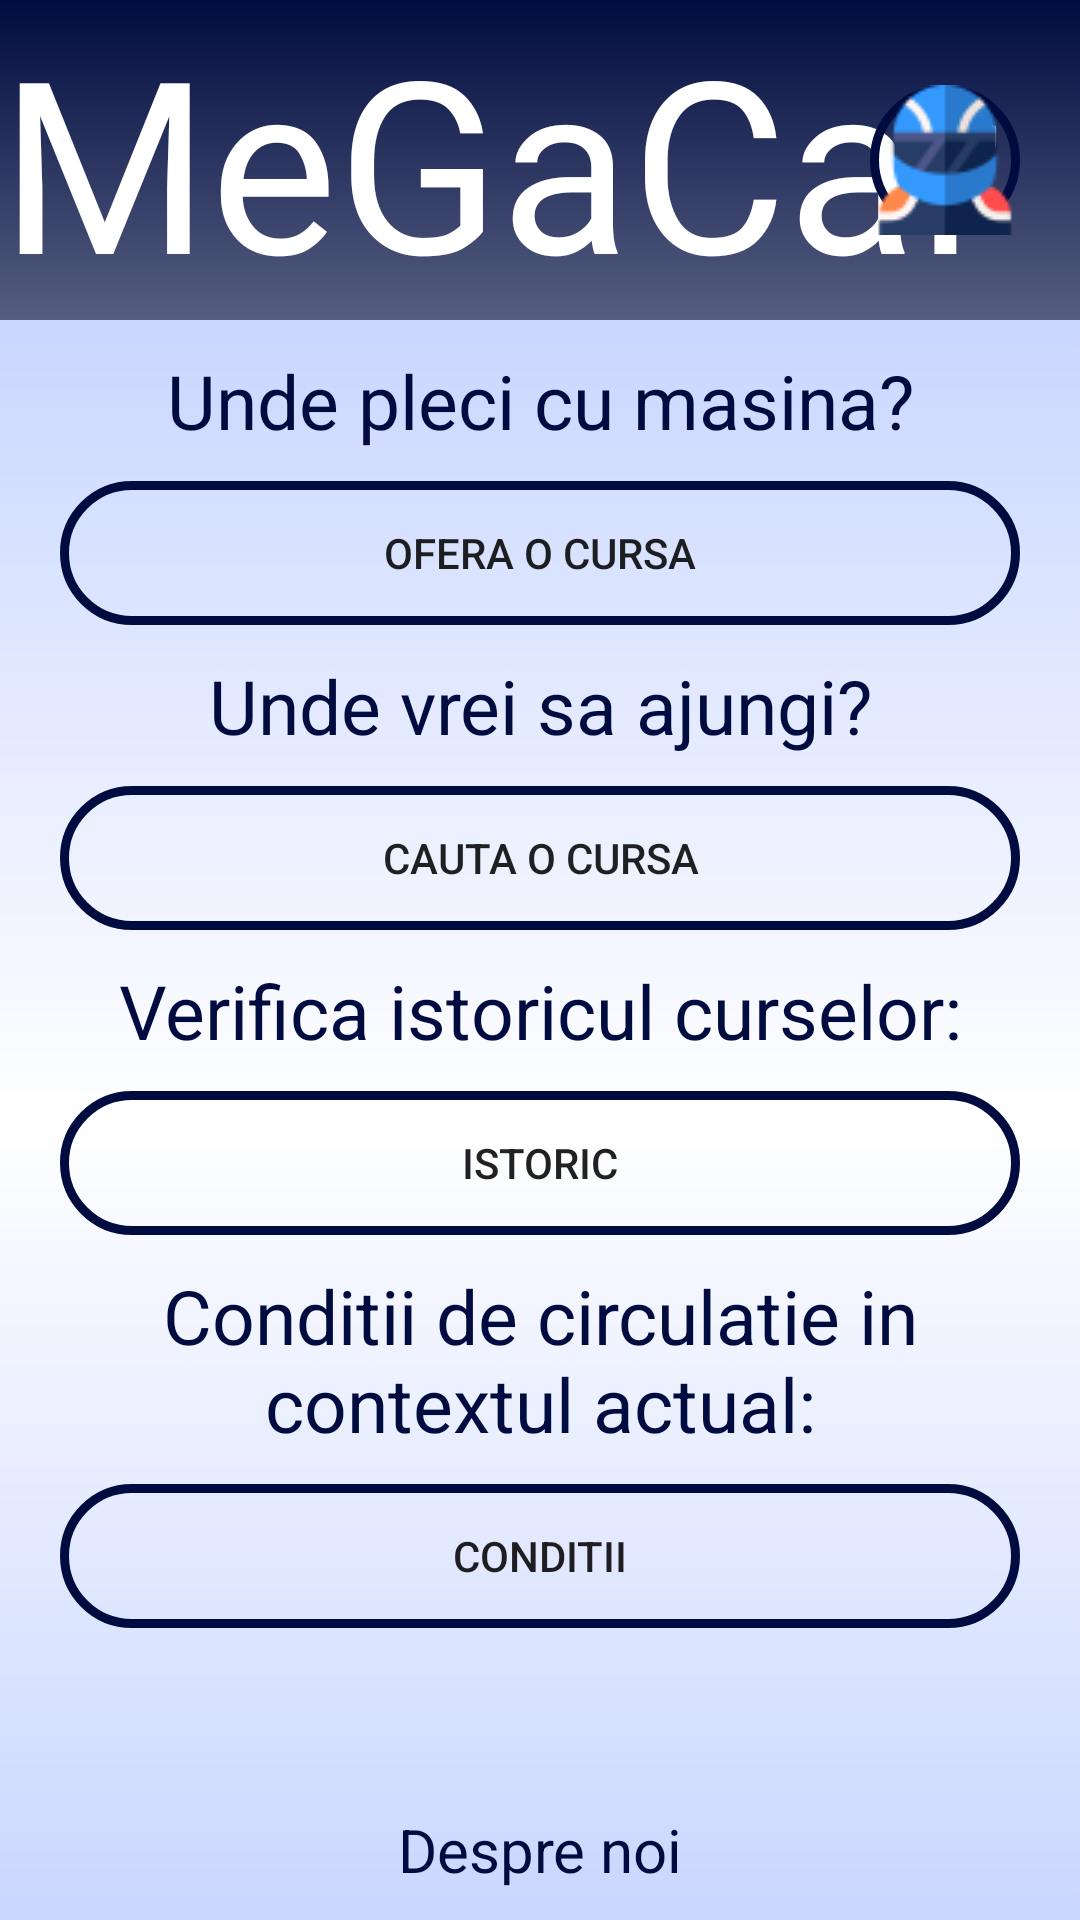

Screen size 1080px x 1920px. Icon name, then its center in pixels as (x,y):
profil: (945,160)
